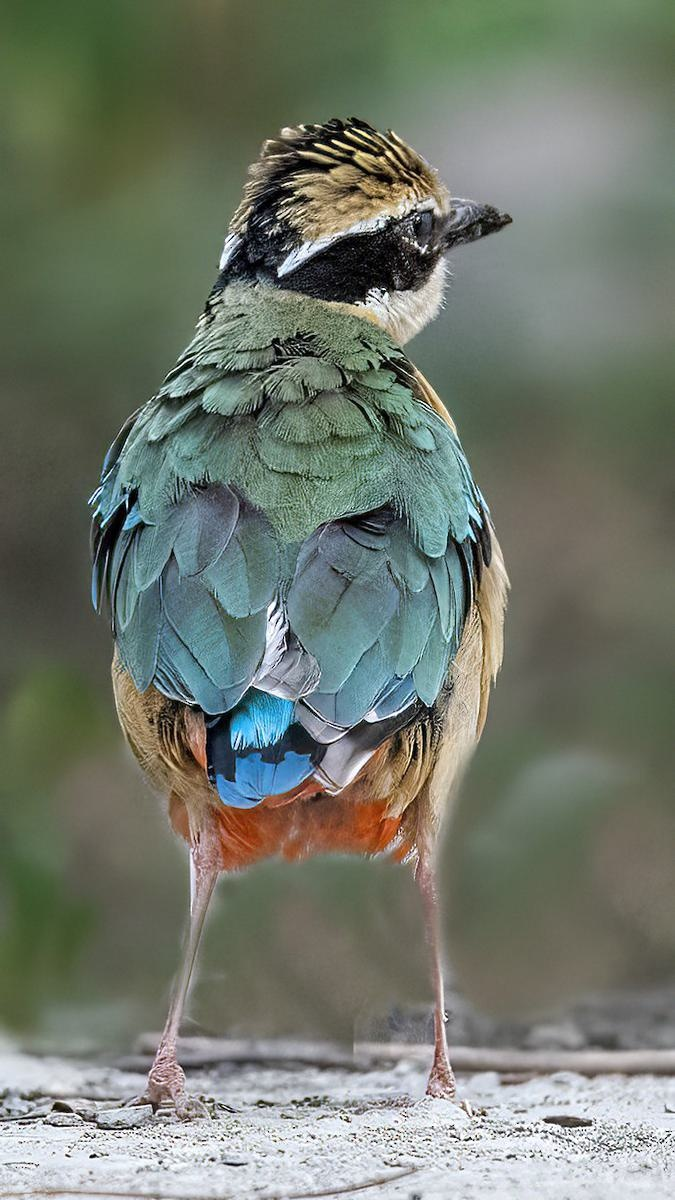pitta: (79, 102, 547, 1085)
